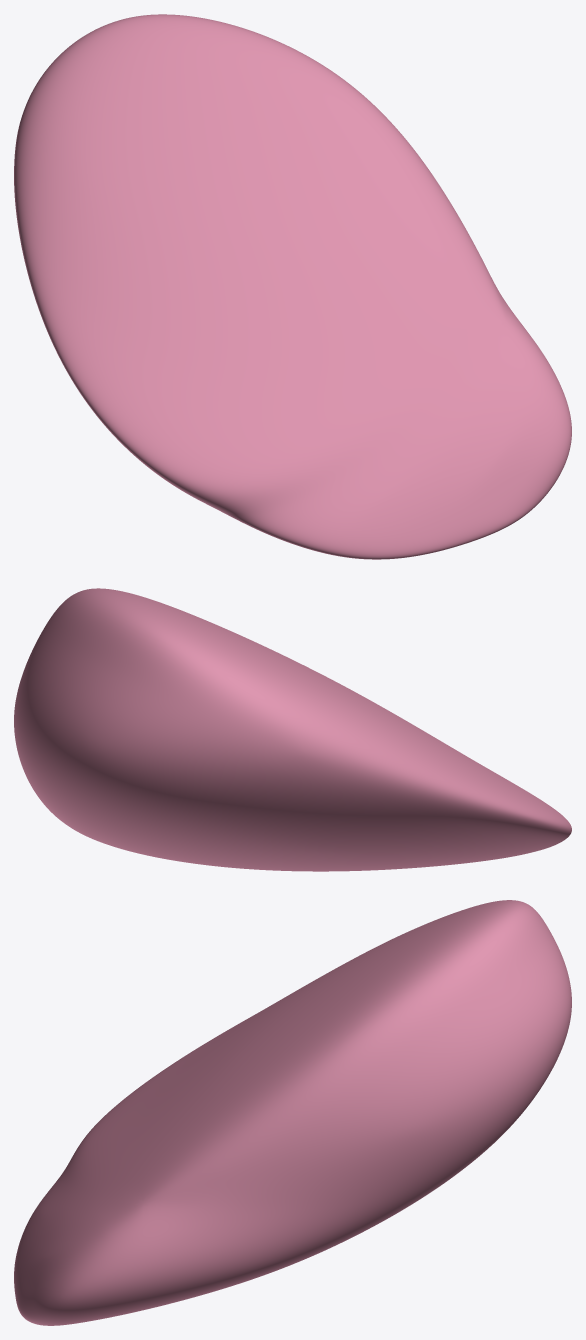
The picture shows the model from 3 angles, top to bottom: view 1: azimuth 30°, elevation 25°; view 2: azimuth 150°, elevation 25°; view 3: azimuth 270°, elevation 25°; orthographic projection. The views are drawn at different scales.
Visible parts, largest first — view 1: CR-F; view 2: CR-F; view 3: CR-F.
Part boxes in pixels (<box>): CR-F: <box>14,14,571,559</box>; CR-F: <box>14,588,571,871</box>; CR-F: <box>14,900,571,1325</box>.
Bounding box in the file's own units: 7.61 × 6.3 × 9.02.
